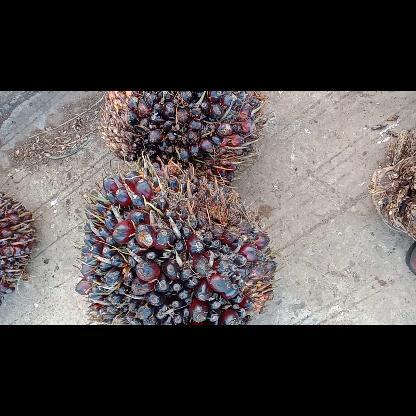TBS mentah: (76, 165, 274, 324), (99, 92, 263, 184), (0, 193, 36, 305)
